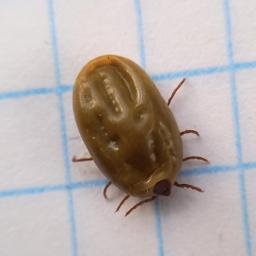Rhipicephalus sanguineus: (71, 54, 210, 215)
